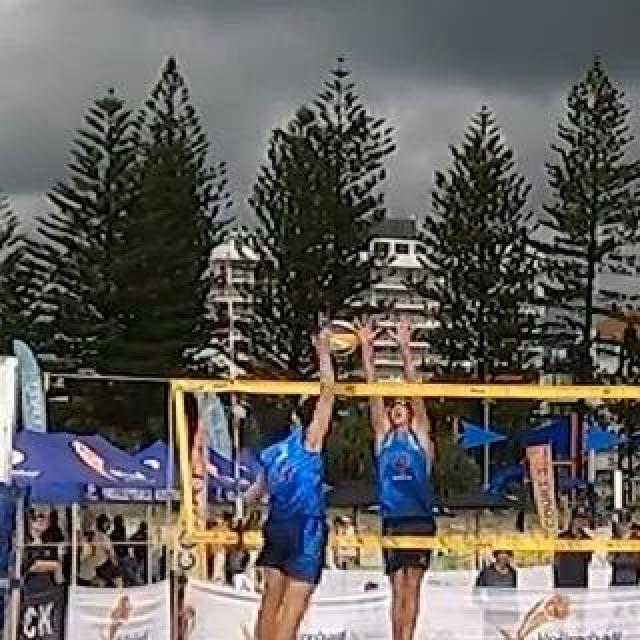volleyball: (321, 320, 359, 354)
